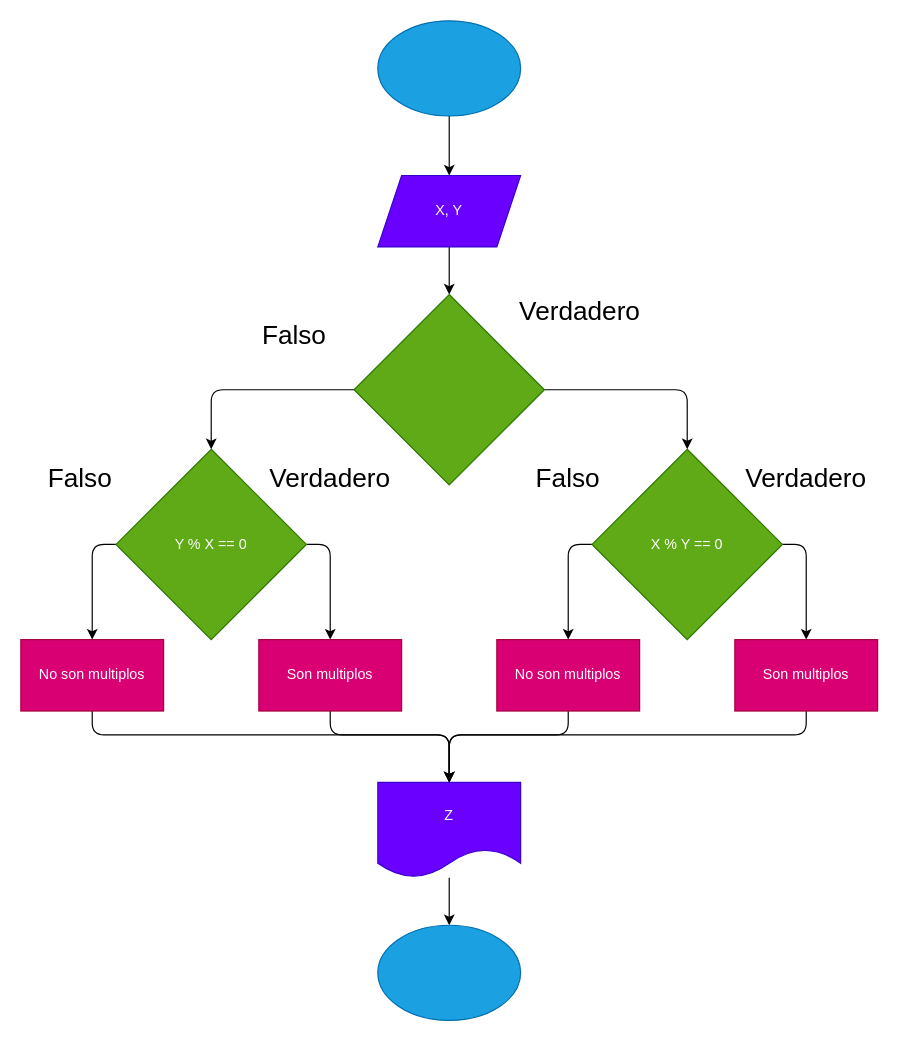
The diagram is 898 pixels wide and 1041 high, and some of its shapes have lost their labels. The centre of each missing label's shape, as x and y in pixels:
FIN: (449,972)
INICIO: (449,68)
X > Y: (448,389)
